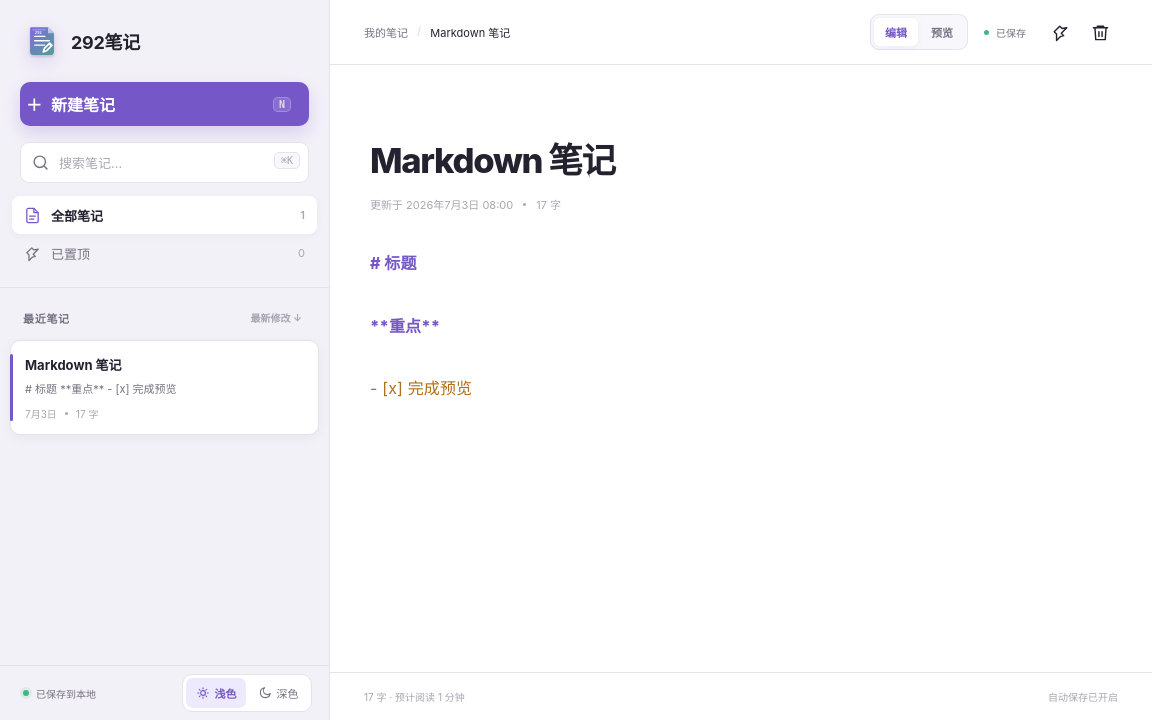
Test: App › highlights markdown syntax in edit mode and renders markdown preview
The width and height of the screenshot is (1152, 720).
Check: the field showing "Markdown 笔记" is shown, box [370, 139, 1112, 182]
Check: the text "# 标题" is shown, box [370, 253, 417, 273]
Click the button "预览": (942, 32) [920, 18, 964, 46]
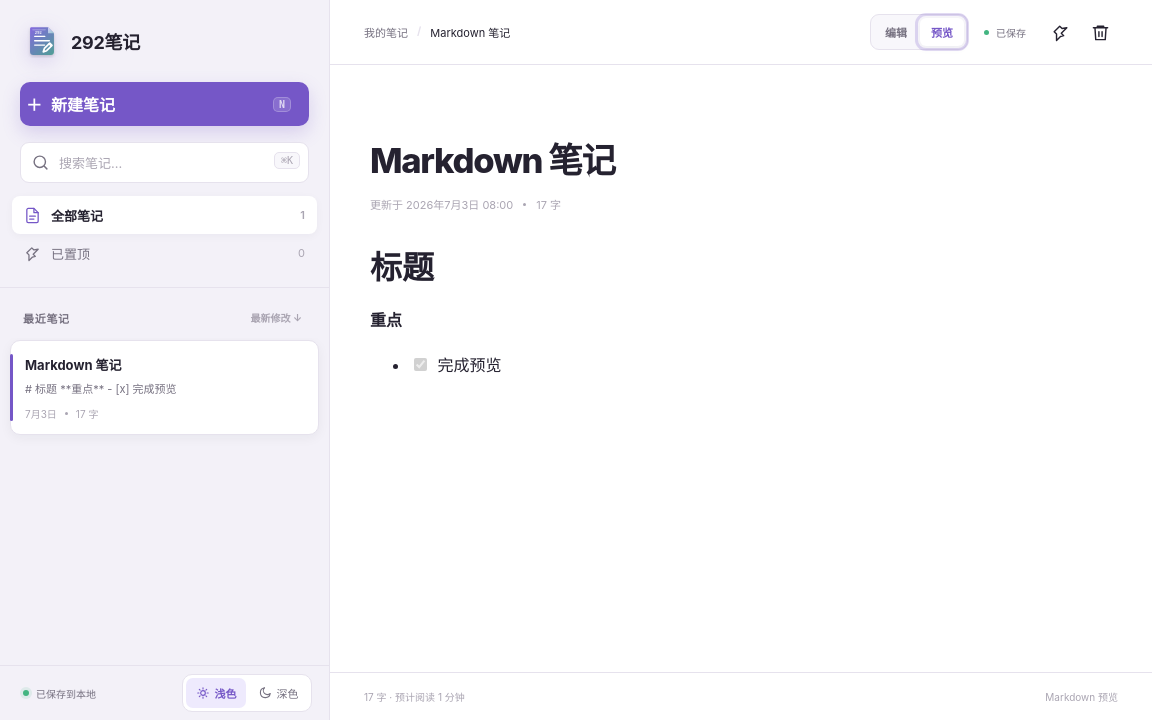
Check: the heading "标题" is shown, box [370, 248, 434, 287]
Check: the checkbox is shown, box [414, 358, 427, 371]
Check: the text box labelled "笔记内容" is gone
Click the button "编辑": (896, 32) [874, 18, 918, 46]
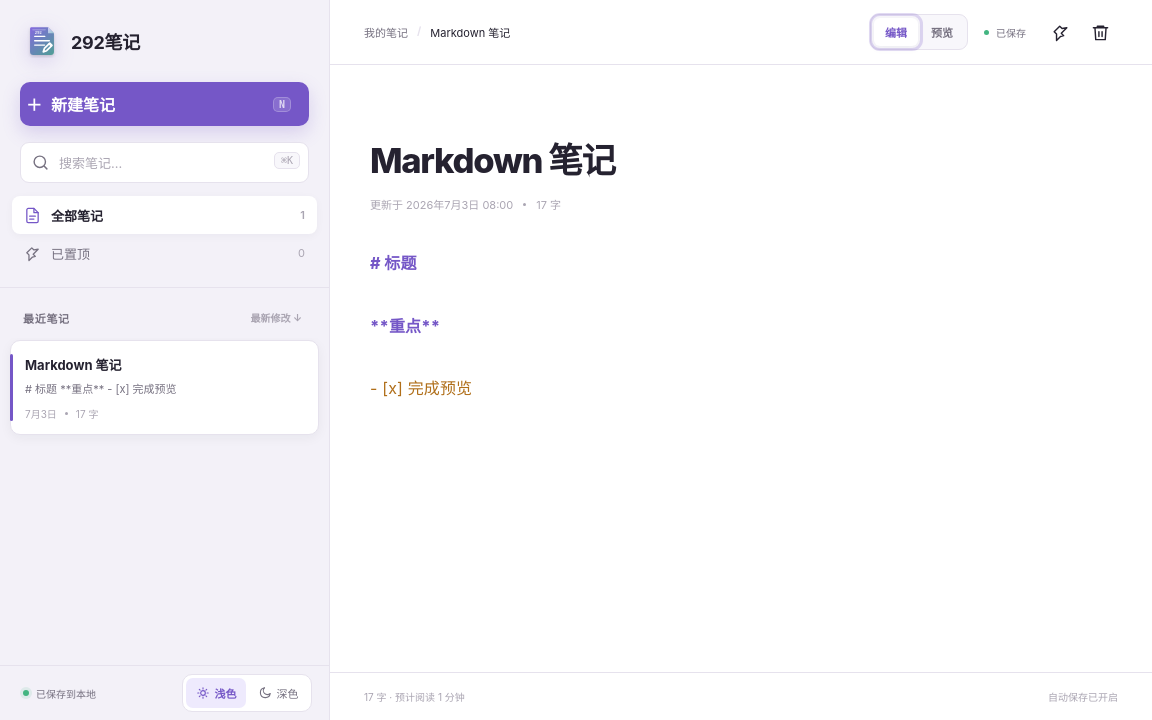
Check: the text box named "笔记内容" is shown, box [370, 248, 1112, 647]
